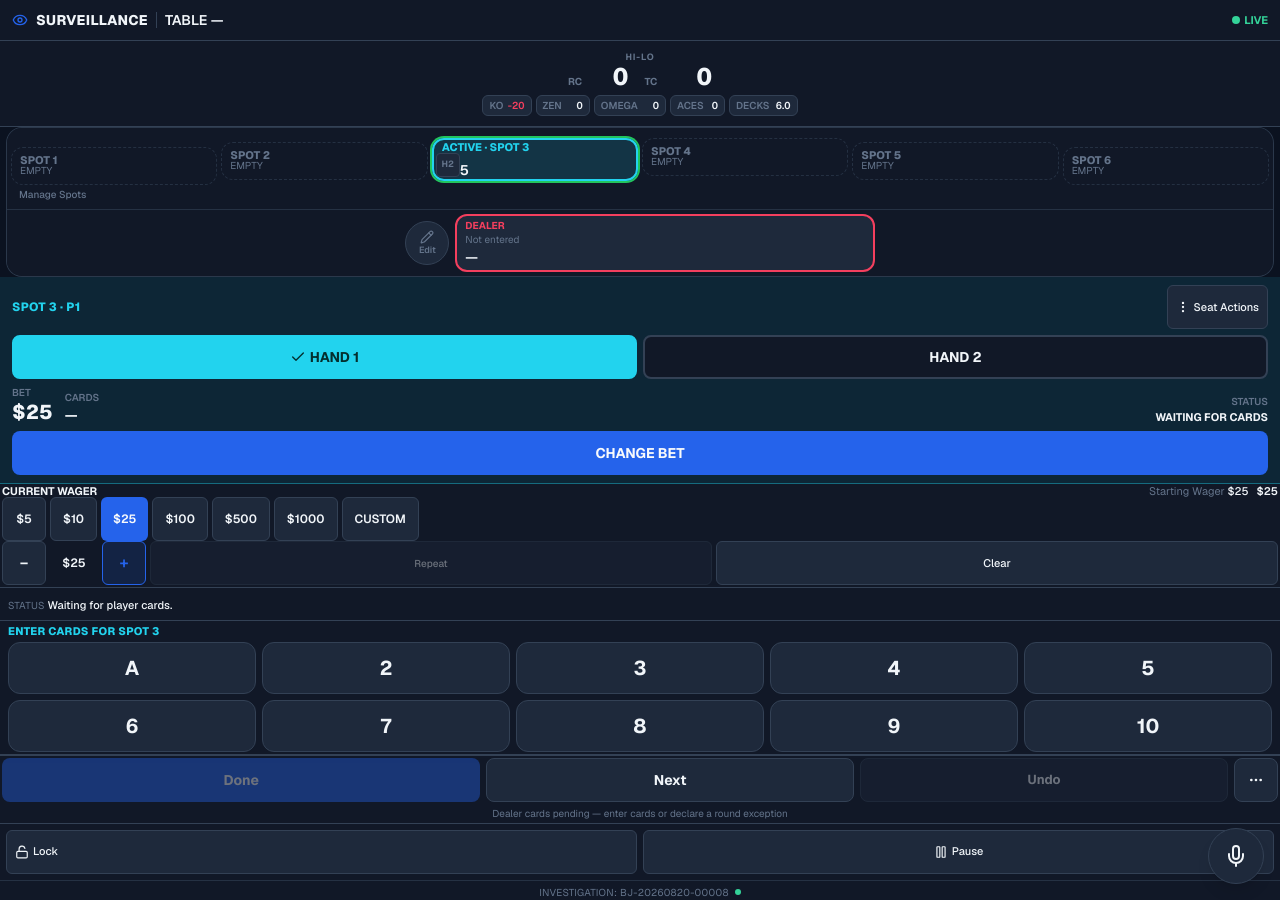
it: Split-hand UX — a split seat clearly shows both hands › Double applies to whichever hand is currently selected, and the caption says so explicitly
Step 1. Click the button with test id "select-hand-2" → click(956, 357), box top-left (643, 335), bottom-right (1268, 379)
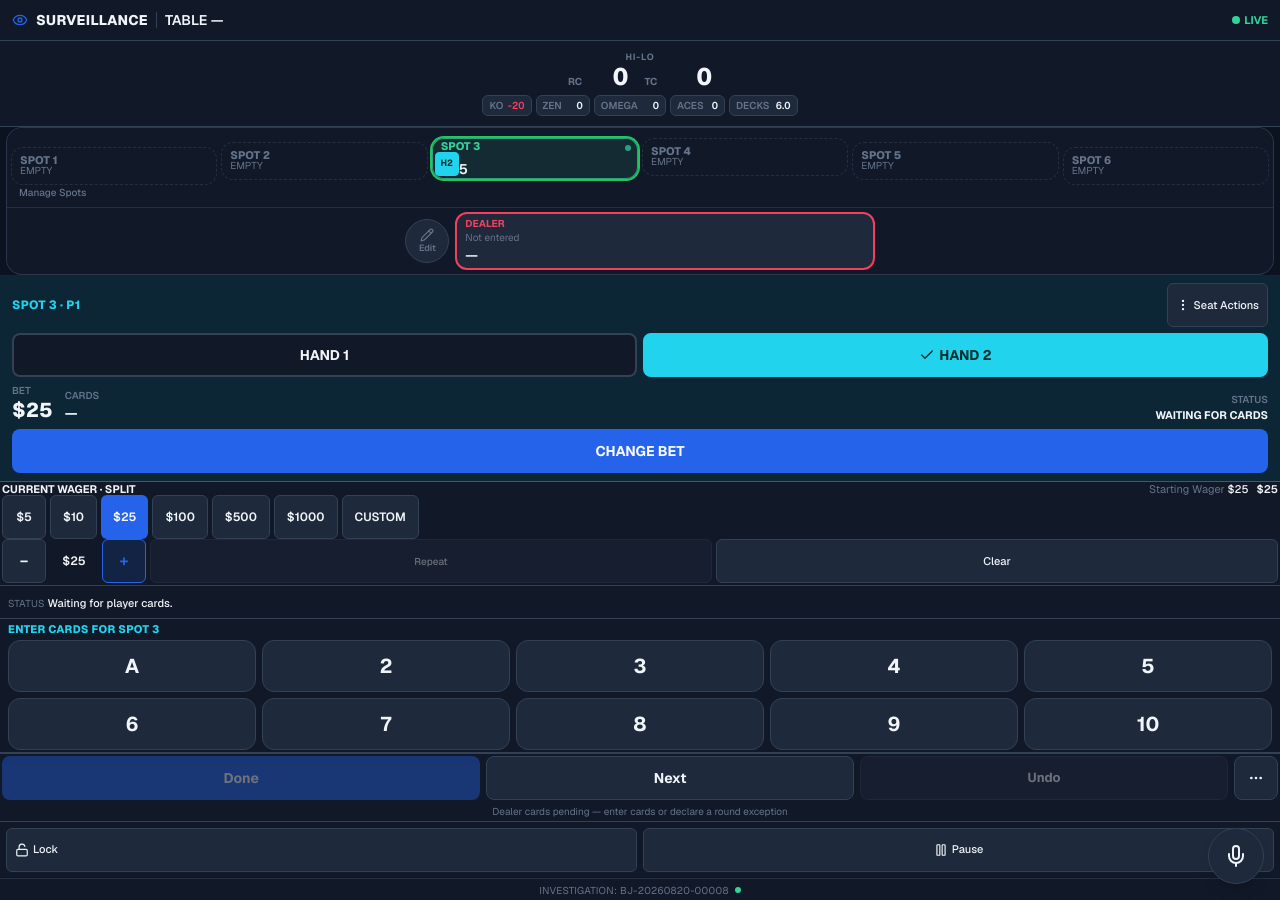
Now the button with test id "select-hand-2" is pressed, box top-left (643, 333), bottom-right (1268, 377)
Step 2. Click the button with test id "change-bet-button" → click(640, 451), box top-left (12, 429), bottom-right (1268, 473)
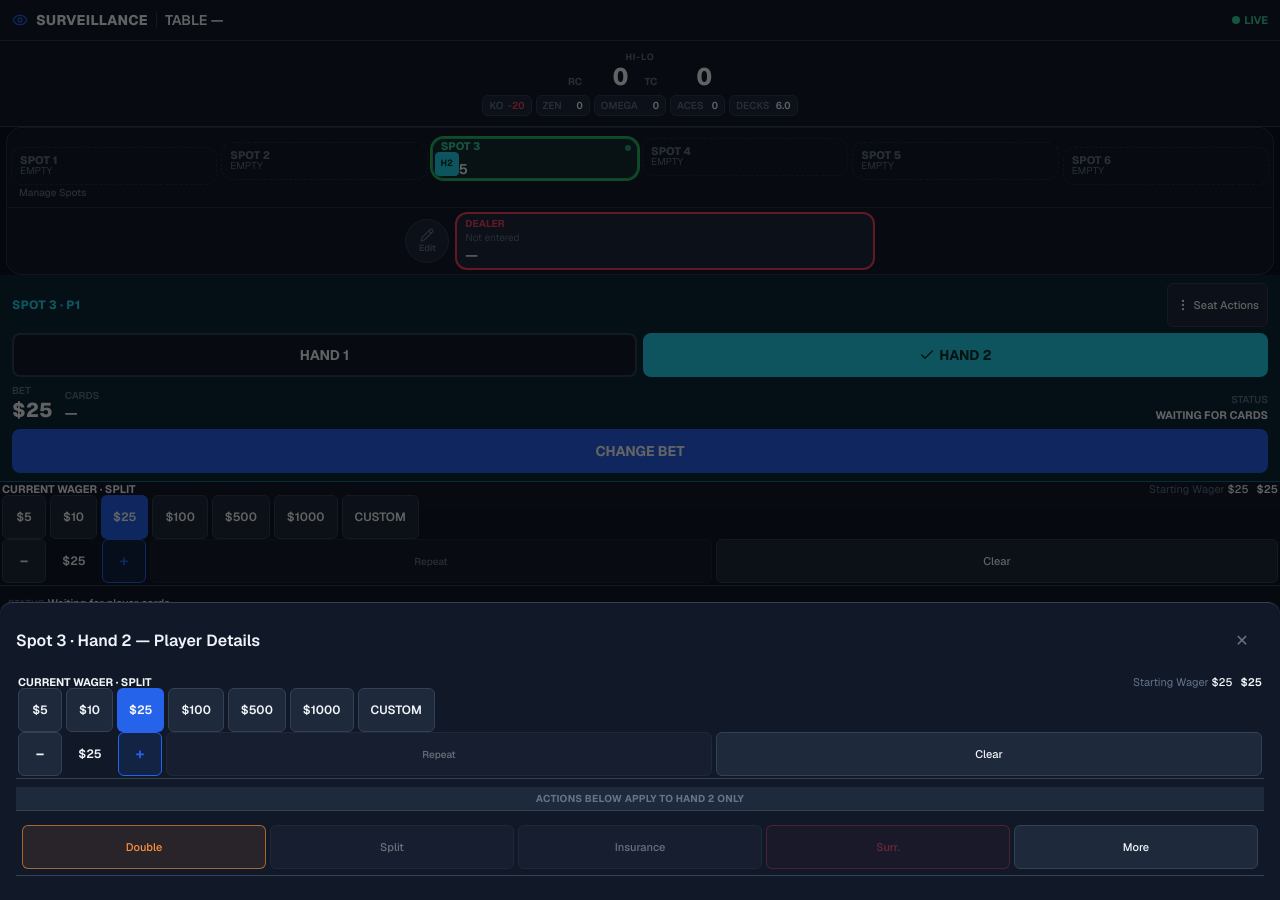
Now the text "Actions below apply to Hand 2 only" is shown, box top-left (16, 787), bottom-right (1264, 811)
Step 3. Click the button "Double" → click(144, 847), box top-left (22, 825), bottom-right (266, 869)
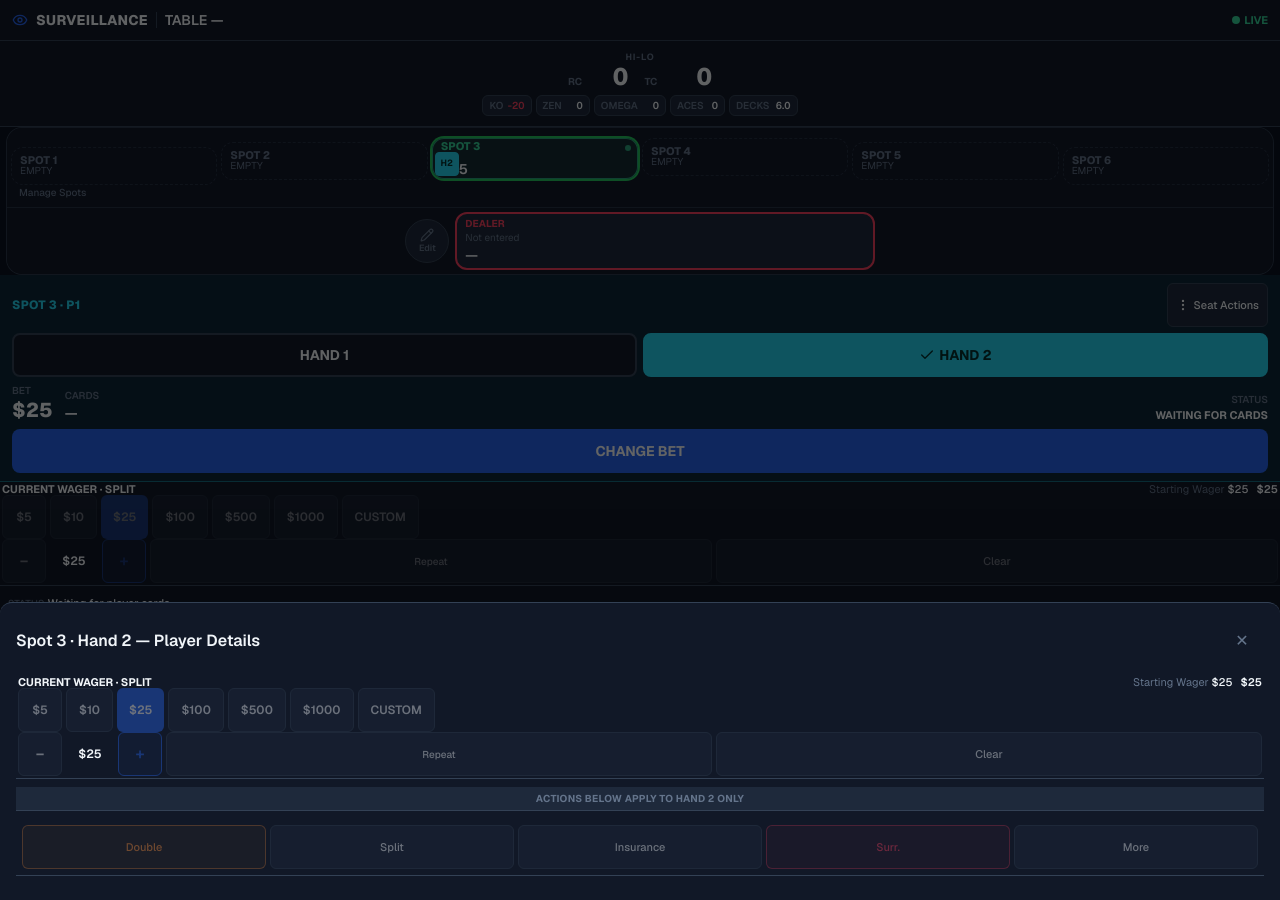
Now the button "Double" is disabled, box top-left (22, 825), bottom-right (266, 869)
Step 4. Click the button named "Close" → click(1242, 641), box top-left (1220, 619), bottom-right (1264, 663)
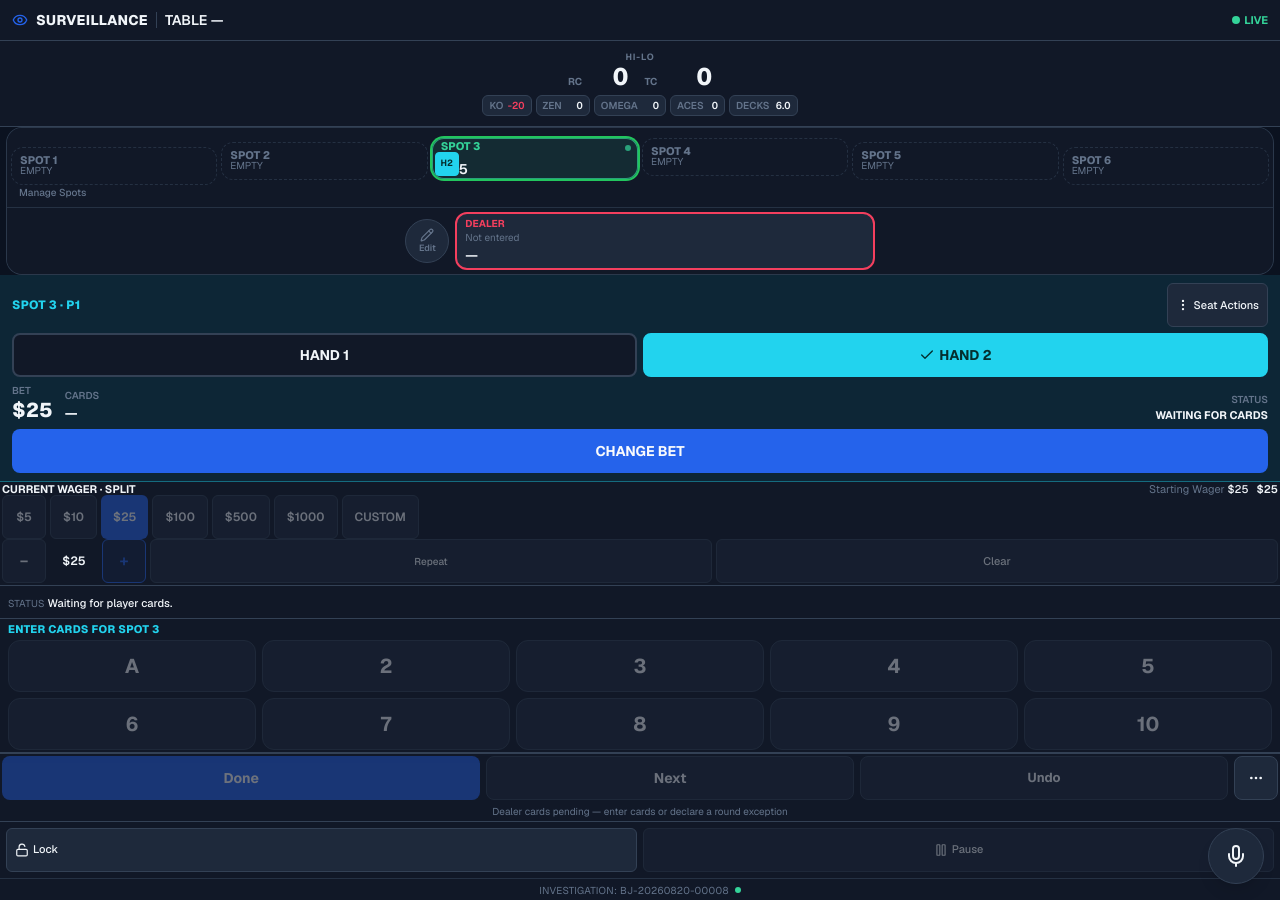
Step 5. Click the button with test id "select-hand-1" → click(324, 355), box top-left (12, 333), bottom-right (637, 377)
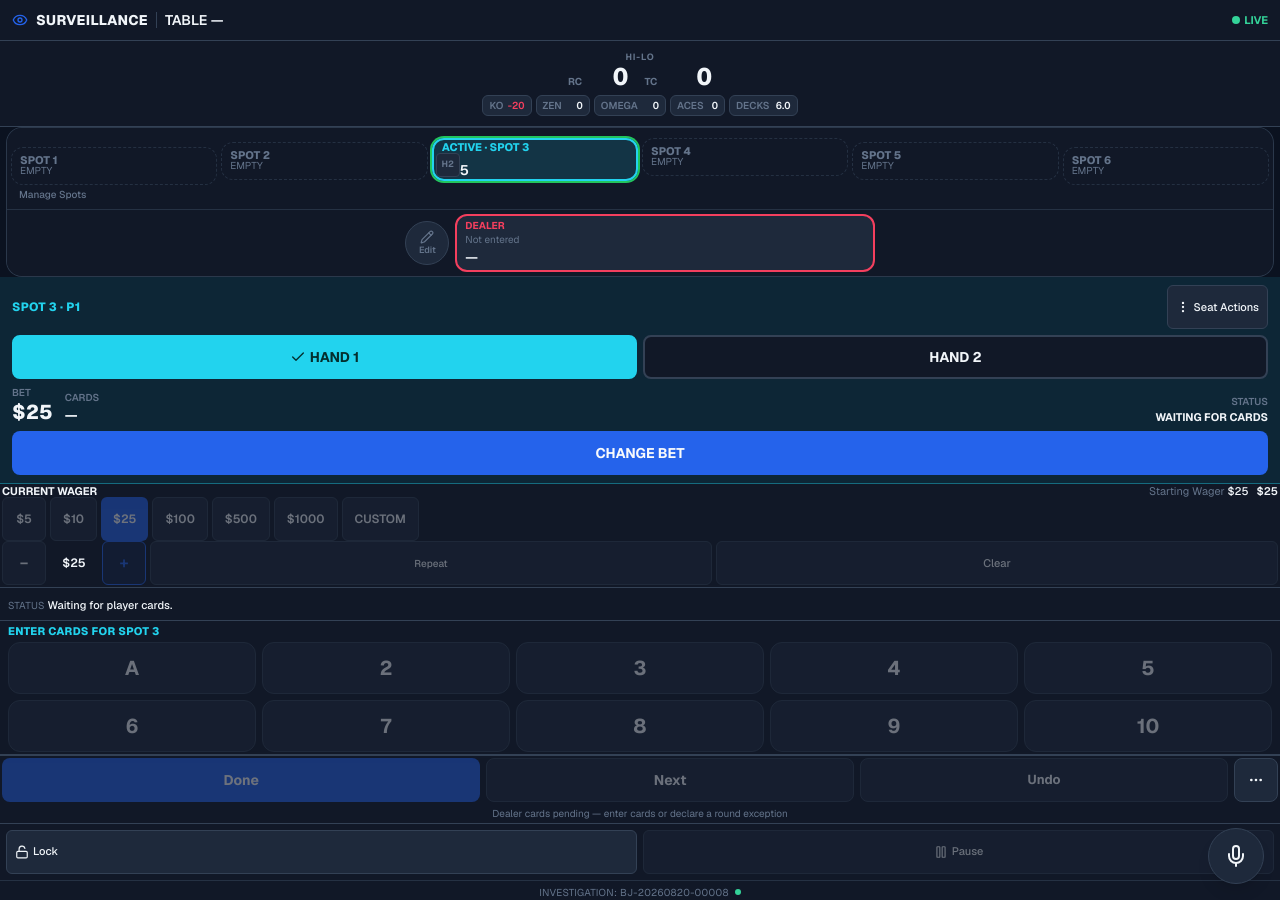
Now the button with test id "select-hand-1" is pressed, box top-left (12, 335), bottom-right (637, 379)
Step 6. Click the button with test id "change-bet-button" → click(640, 453), box top-left (12, 431), bottom-right (1268, 475)
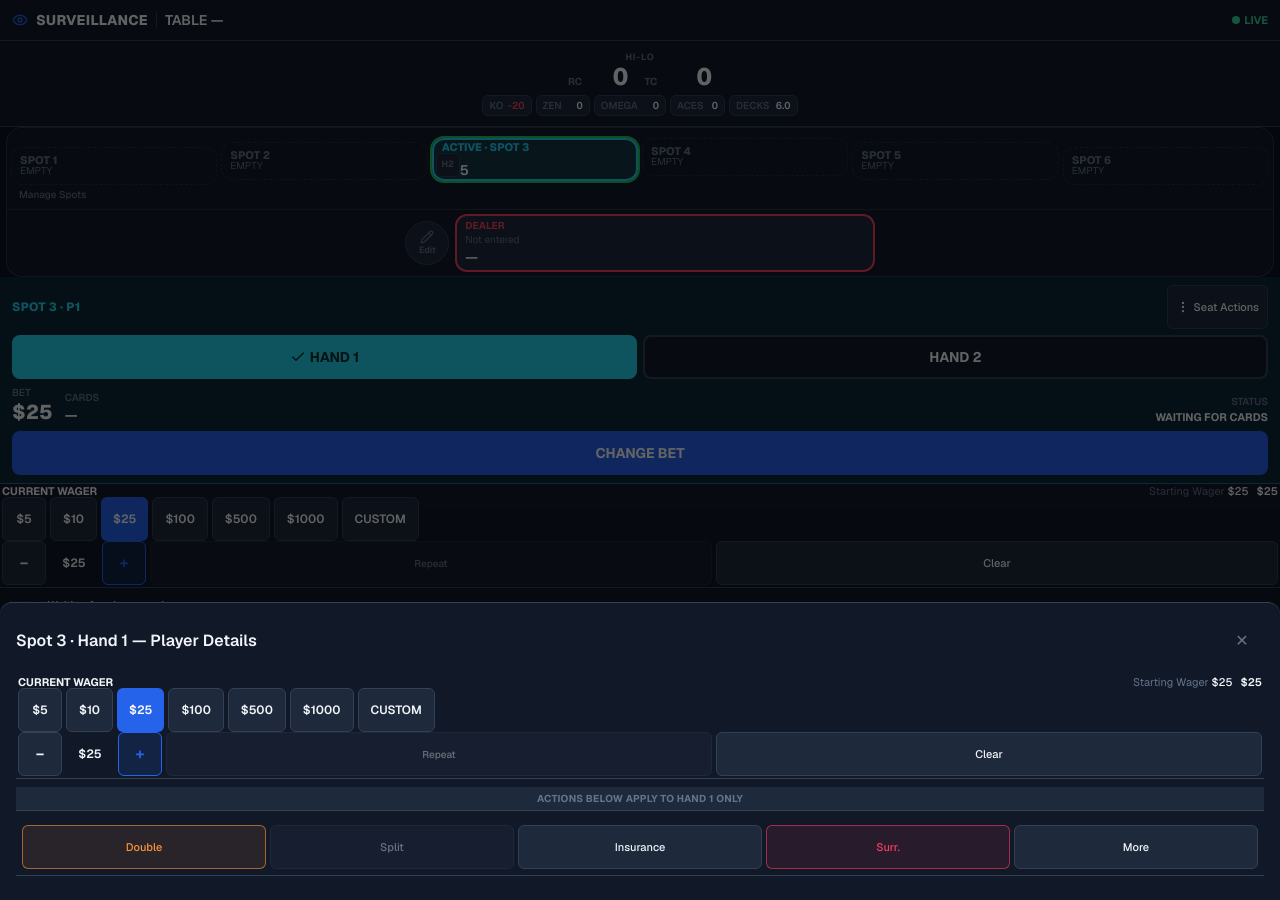
Now the button "Double" is enabled, box top-left (22, 825), bottom-right (266, 869)
